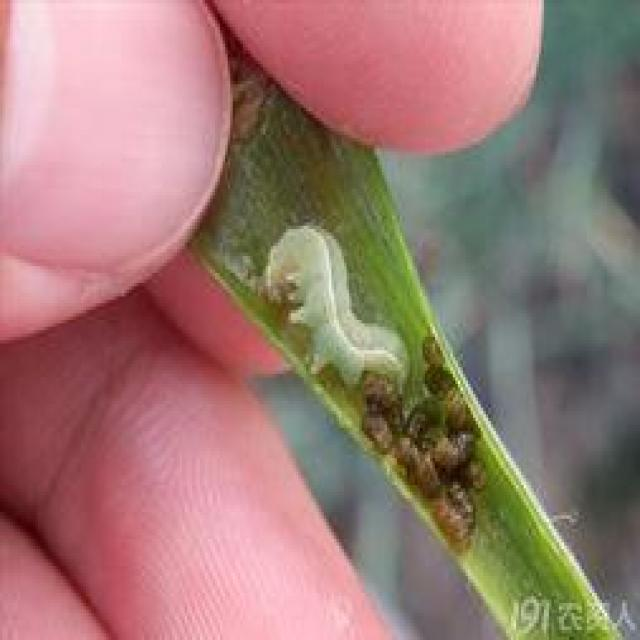BeetArmyWorm-Larva-: (258, 213, 416, 400)
